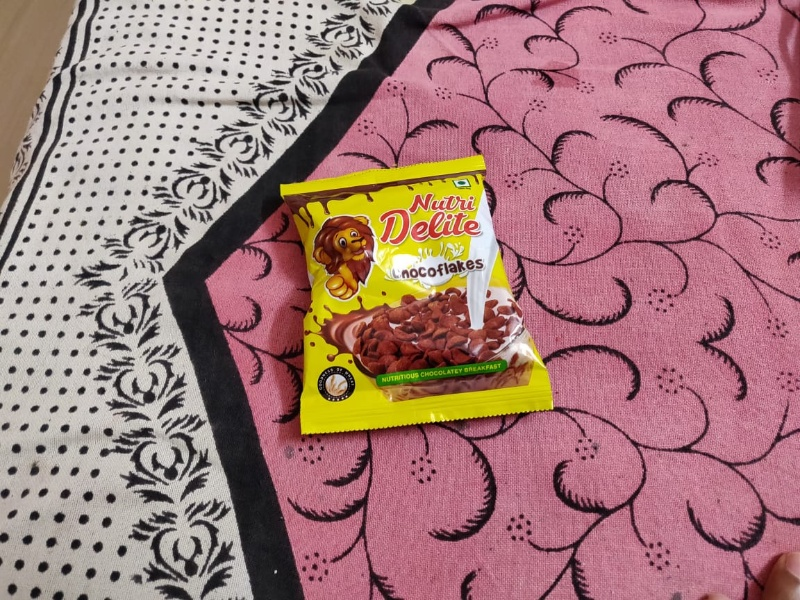nutriDelite: (294, 170, 538, 444)
